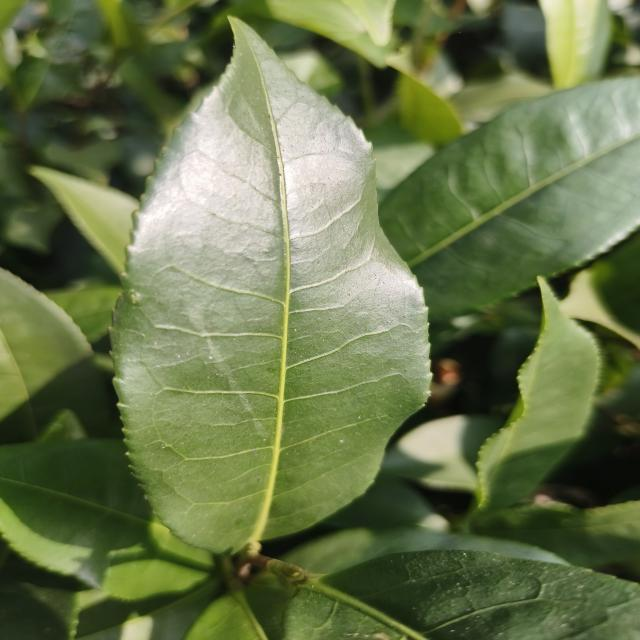Leaf: (113, 21, 430, 553), (379, 78, 640, 318), (0, 439, 213, 600), (279, 550, 640, 640), (474, 277, 600, 515), (0, 270, 119, 444), (29, 165, 139, 275), (472, 501, 640, 567), (382, 415, 499, 492), (539, 0, 612, 89)
